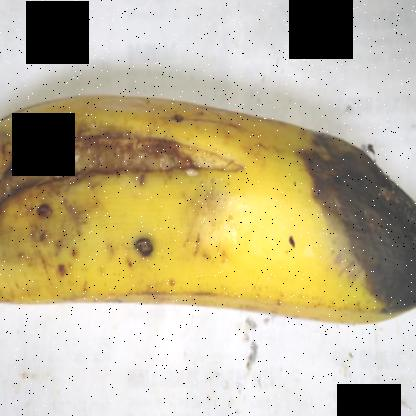rotten: (0, 106, 247, 267), (288, 110, 416, 346)
